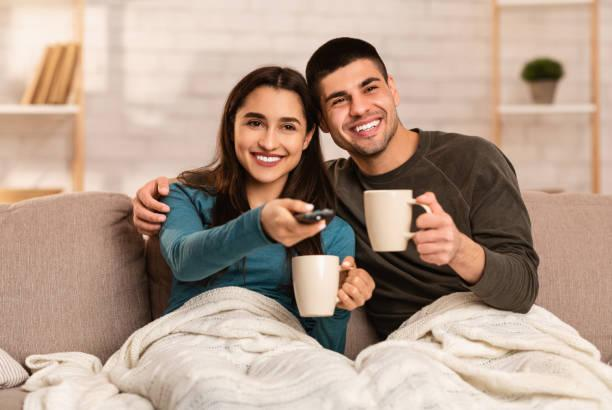blanket: (20, 285, 610, 410)
long sleeve shirt: (181, 124, 543, 345), (154, 179, 355, 363)
